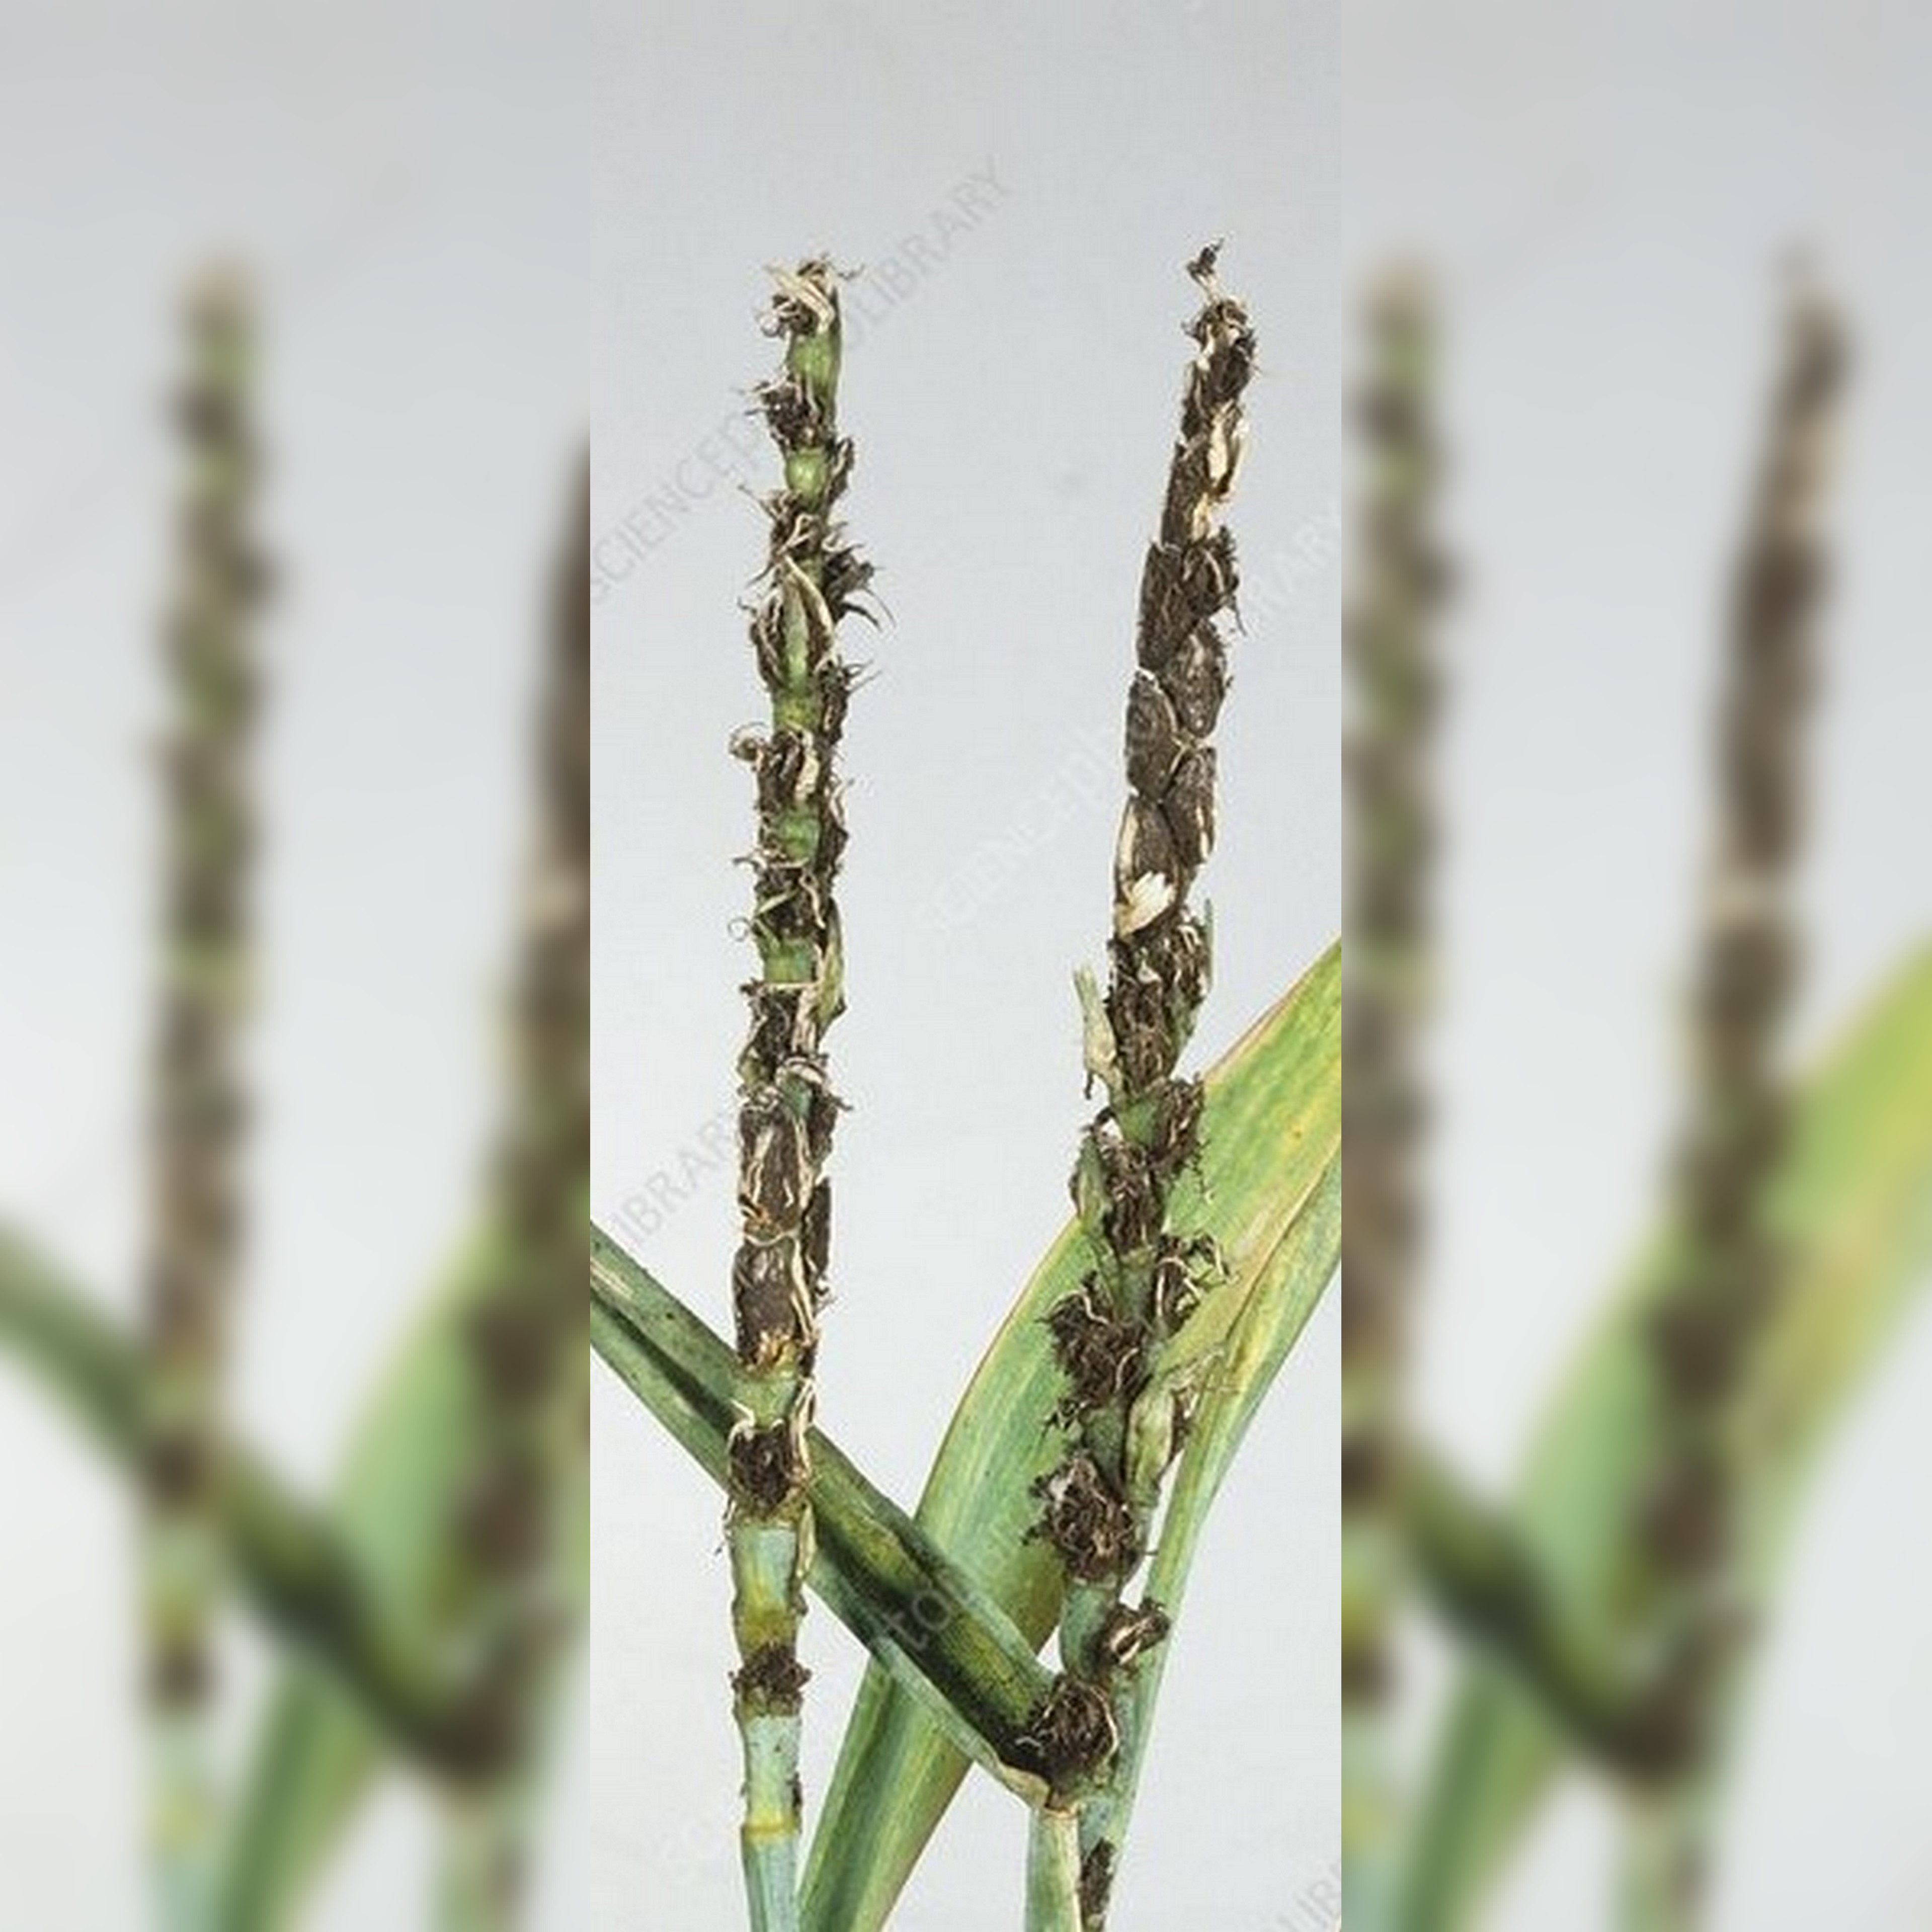Wheat Loose Smut: (692, 235, 1235, 1706)
